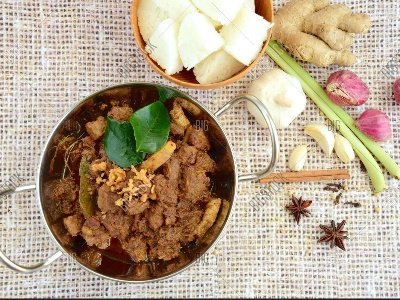rendang: (69, 119, 220, 258)
